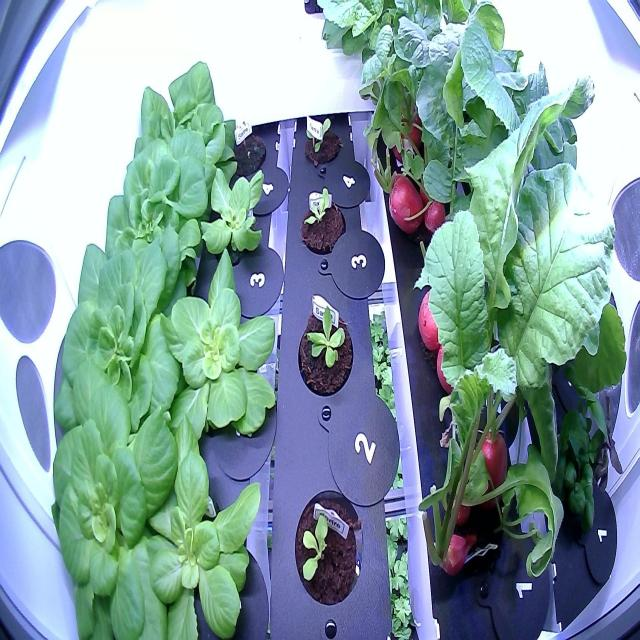pod: (223, 120, 268, 184)
young: (31, 374, 195, 640), (43, 223, 207, 442), (157, 242, 290, 445), (140, 432, 265, 639), (98, 114, 218, 281), (120, 54, 239, 207), (289, 476, 371, 613), (195, 159, 272, 266), (294, 294, 360, 409), (295, 182, 351, 265), (297, 107, 344, 171)
